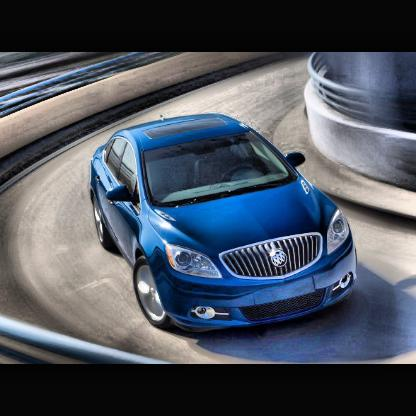Buick Verano Sedan 2012: (91, 114, 360, 334)
